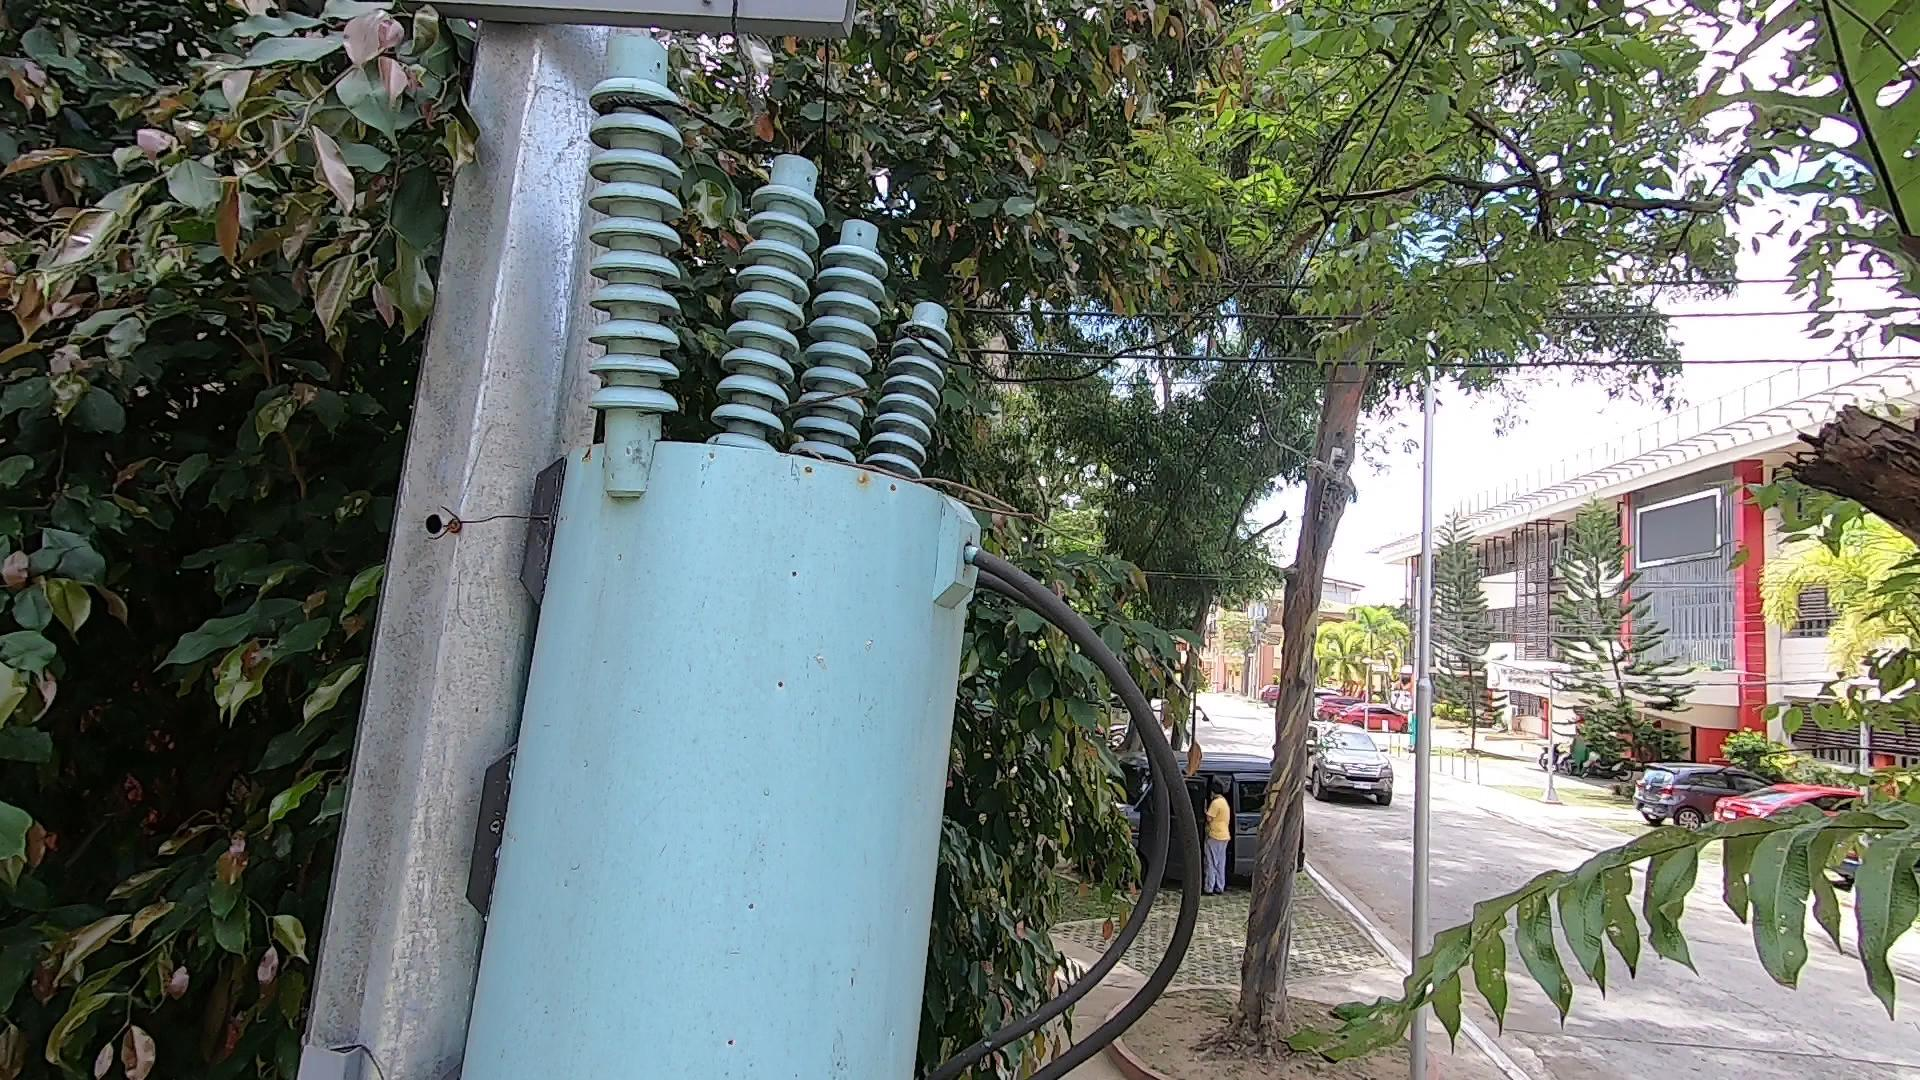tree branch: (856, 454, 1116, 568)
